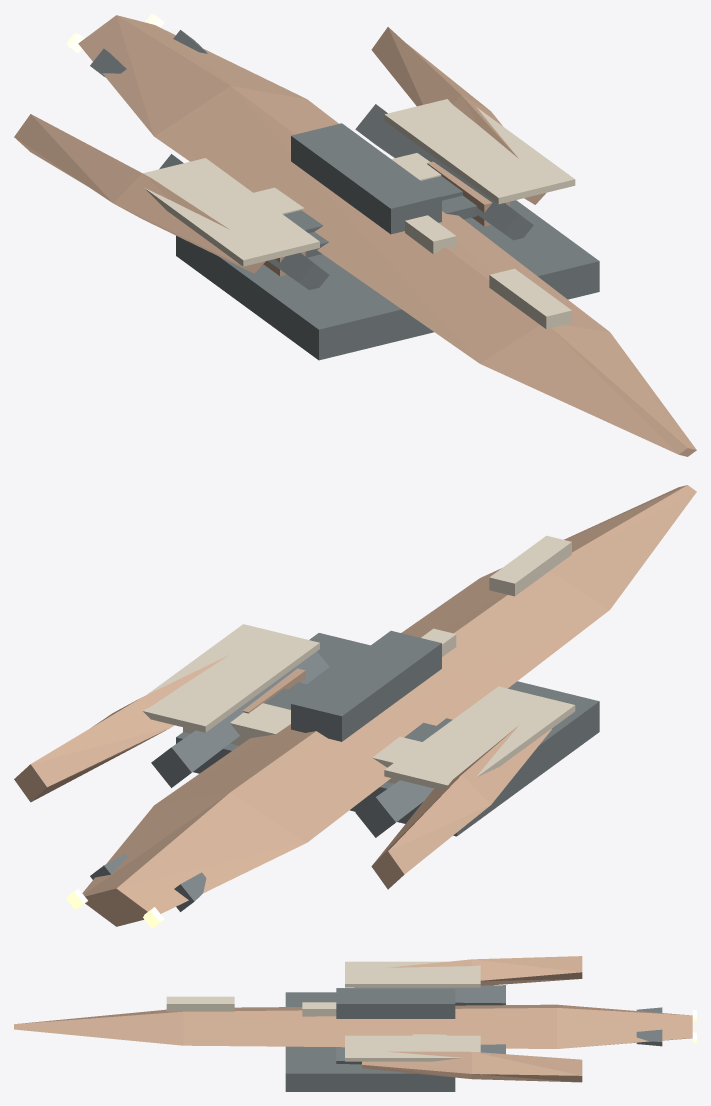
3 renders of one model, top to bottom at view 1: azimuth 30°, elevation 25°; view 2: azimuth 150°, elevation 25°; view 3: azimuth 270°, elevation 25°, orthographic. The views are drawn at different scales.
Size of the model in its own units: 5.94 by 1.34 by 15.13.
